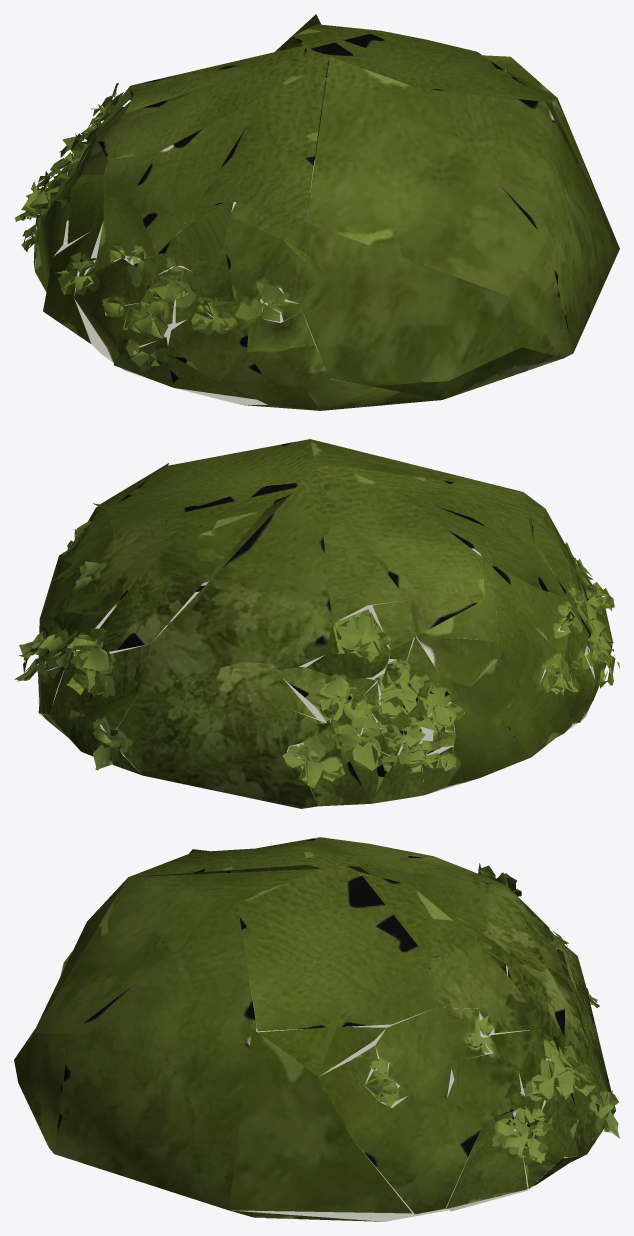
The model's file is rock.glb.
3 renders of one model, top to bottom at view 1: azimuth 30°, elevation 25°; view 2: azimuth 150°, elevation 25°; view 3: azimuth 270°, elevation 25°, orthographic. The views are drawn at different scales.
Parts seen in each view (by area): view 1: remeshed; view 2: remeshed; view 3: remeshed.
Boxes of the visible parts, x1=… form: remeshed: x1=14, y1=14, x2=619, y2=410; remeshed: x1=14, y1=439, x2=619, y2=808; remeshed: x1=14, y1=837, x2=619, y2=1221.
Size of the model in its own units: 1.85 by 0.787 by 1.85.
1 material, 1 textured.
